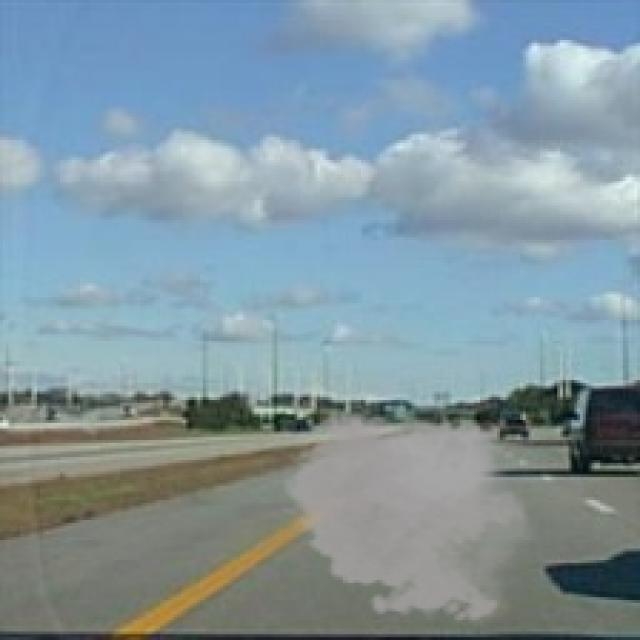smoke: (274, 403, 543, 628)
